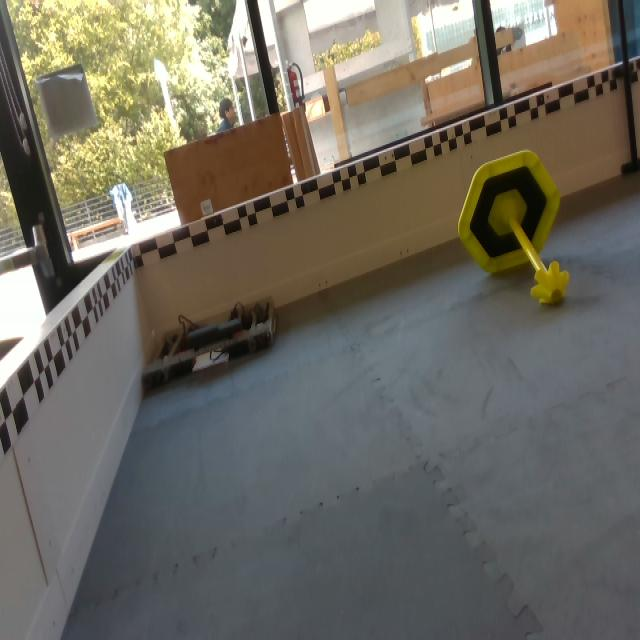Mobile-Goal: (456, 149, 568, 308)
Yellow-Stake-Head: (532, 261, 570, 307)
